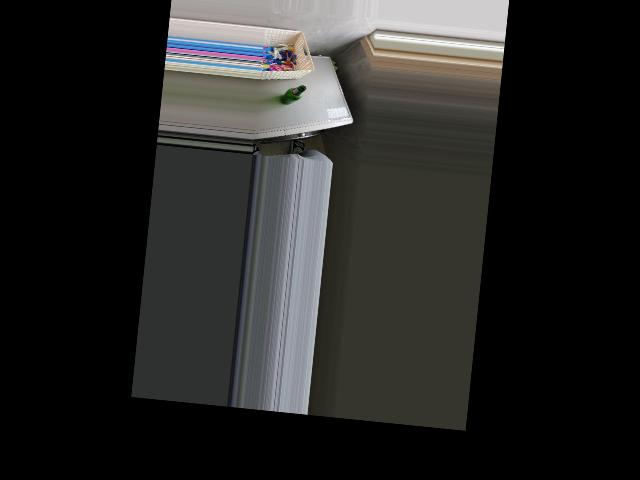beer: (279, 83, 306, 106)
